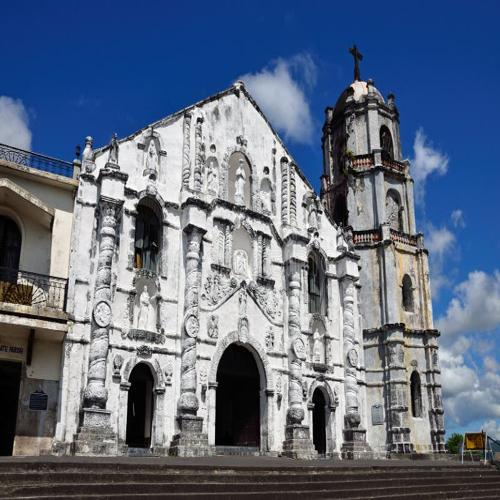Daraga Church: (66, 25, 450, 458)
